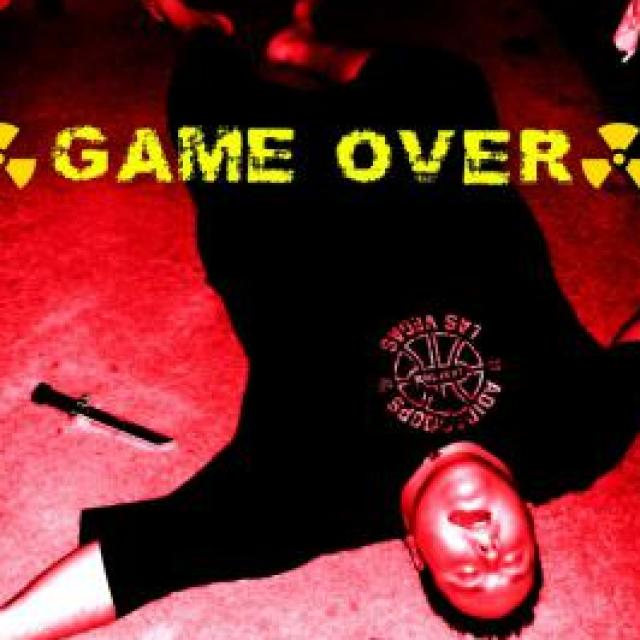knife: (27, 380, 178, 452)
